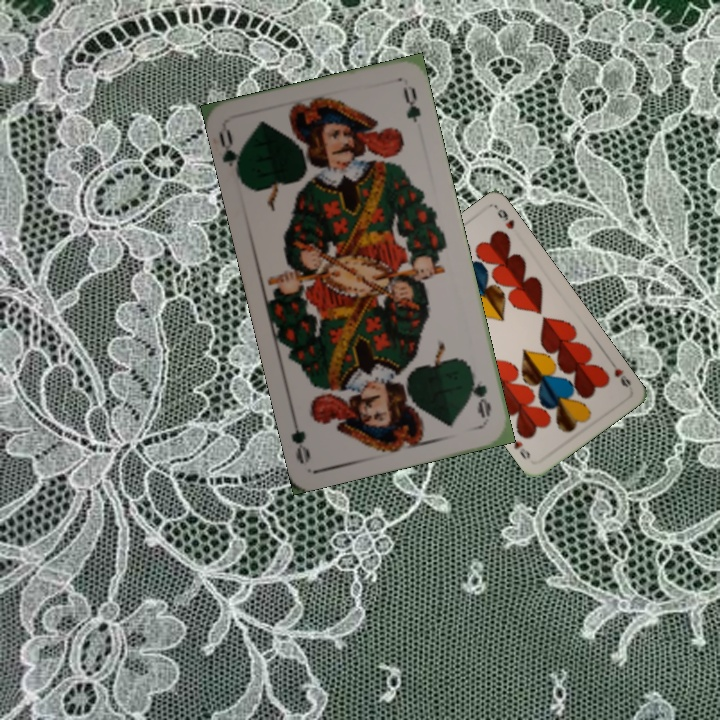GO: (214, 125, 245, 182), (466, 365, 494, 421)
H9: (610, 364, 634, 390)
